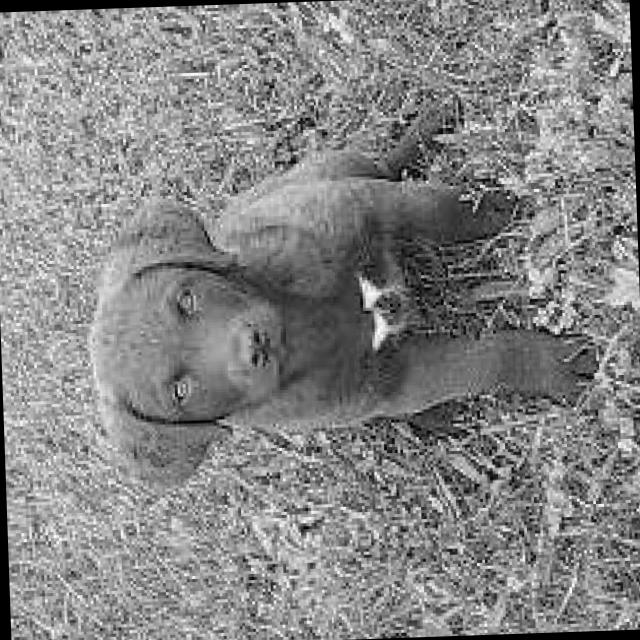sitting: (83, 86, 602, 493)
